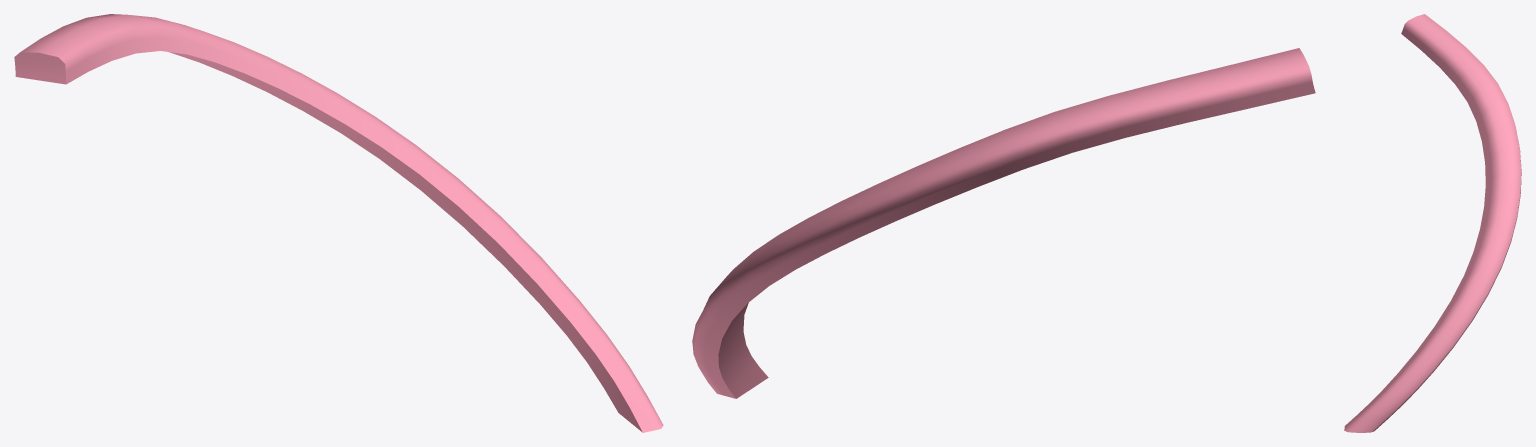
The picture shows the model from 3 angles, left to right: view 1: azimuth 30°, elevation 25°; view 2: azimuth 150°, elevation 25°; view 3: azimuth 270°, elevation 25°; orthographic projection. The views are drawn at different scales.
Visible parts, largest first — view 1: Plane351; view 2: Plane351; view 3: Plane351.
Part boxes in pixels (x1,y1,x2,y2): Plane351: (14, 14, 663, 432); Plane351: (692, 48, 1315, 398); Plane351: (1344, 14, 1521, 432).
Size of the model in its own units: 0.2931 by 0.2236 by 0.1374.
